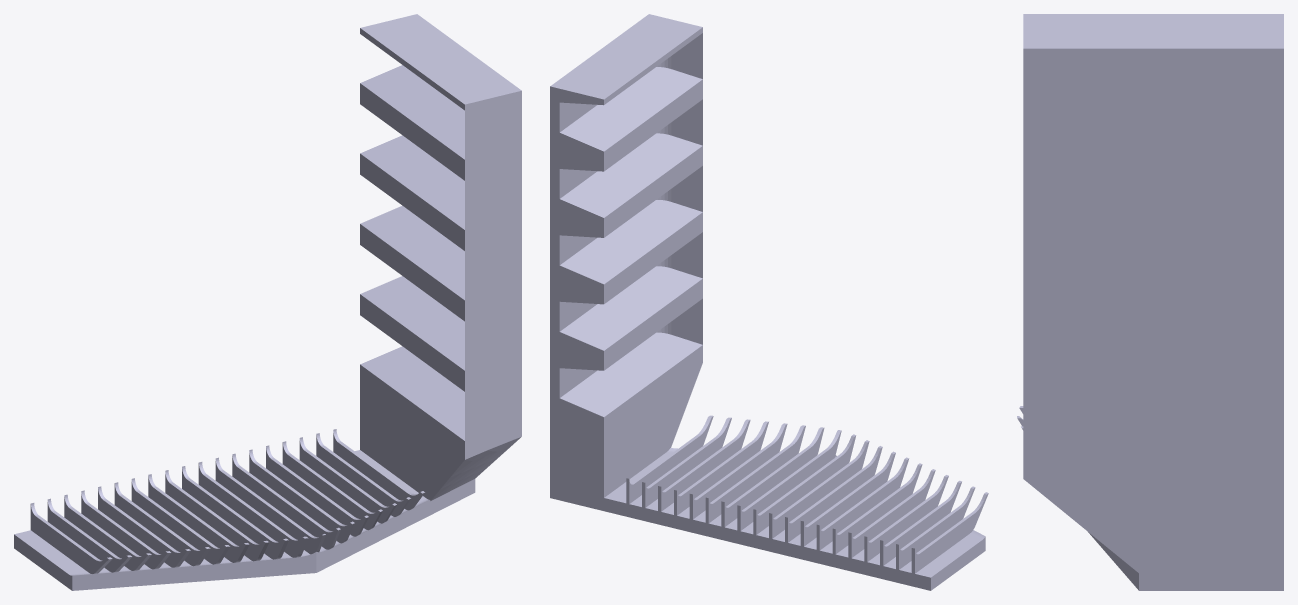
File: Parte_2.dae
The picture shows the model from 3 angles, left to right: view 1: azimuth 30°, elevation 25°; view 2: azimuth 150°, elevation 25°; view 3: azimuth 270°, elevation 25°; orthographic projection. The views are drawn at different scales.
Parts seen in each view (by area): view 1: node0; view 2: node0; view 3: node0.
Boxes of the visible parts, box(x1,y1,x2,y2) form: node0: box(14, 14, 521, 590); node0: box(550, 14, 988, 590); node0: box(1017, 14, 1283, 590).
Bounding box in the file's own units: 30 × 13.82 × 31.
